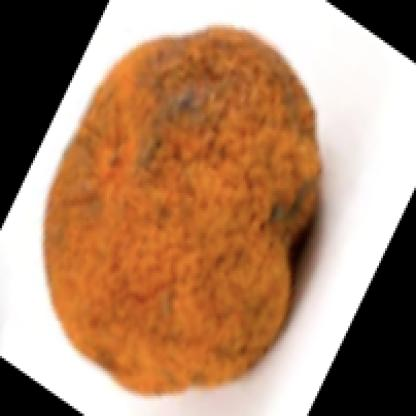rotten: (45, 27, 322, 395)
